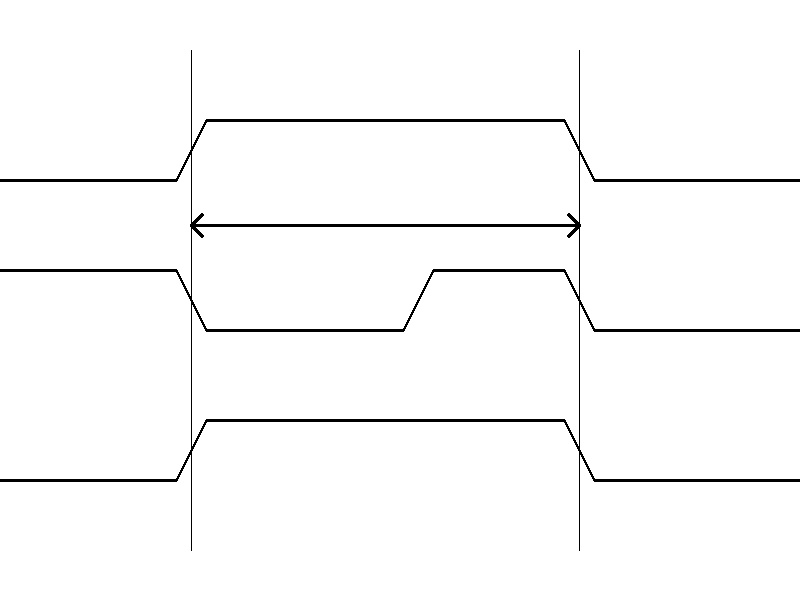double_arrow: (191, 210, 579, 240)
